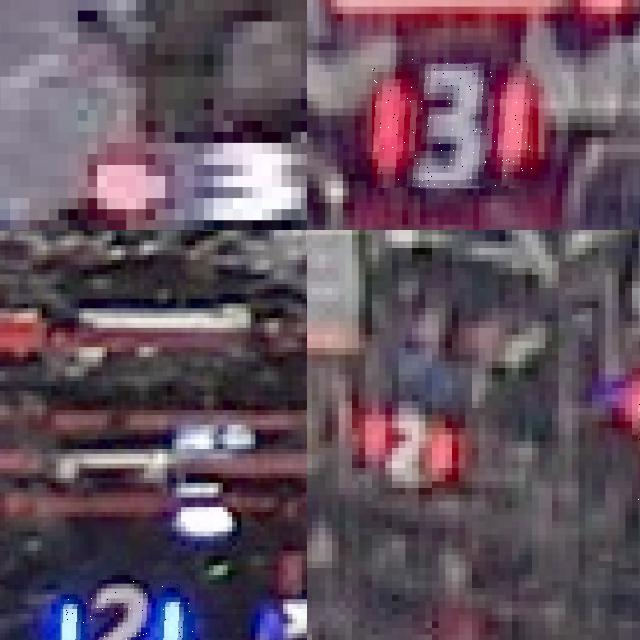B2: (60, 580, 195, 640)
R2: (335, 391, 469, 505)
R3: (372, 58, 538, 188)
